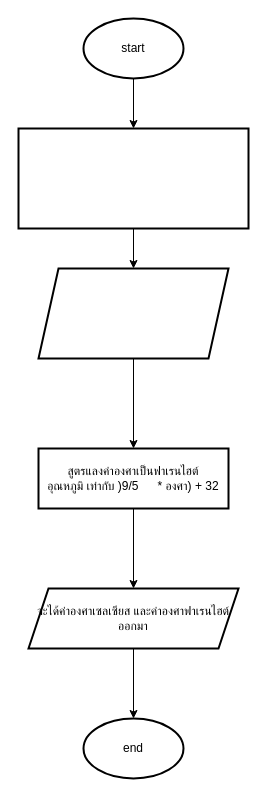
Image size: 266x796. Some labels were removed from this diagram. The centre of each missing label's shape, as x and y in pixels:
"กรอกค่าอุณหภูมิองศา" belongs at pixel 133 313.
"กำหนดตัวแปรอุณหภูมิ องศา และ ฟาเรนไฮต์" belongs at pixel 133 178.
